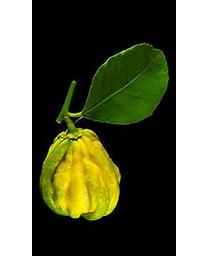lemon: (43, 131, 125, 219)
